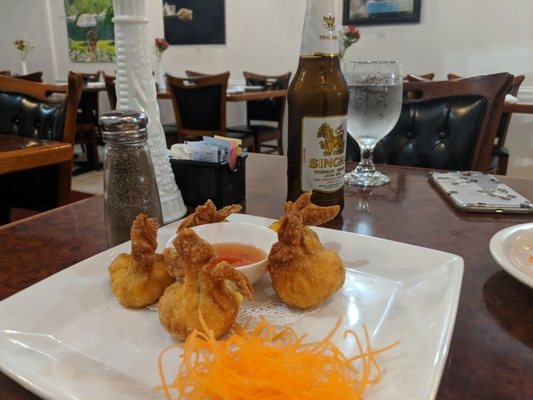sushi: (189, 221, 278, 285)
